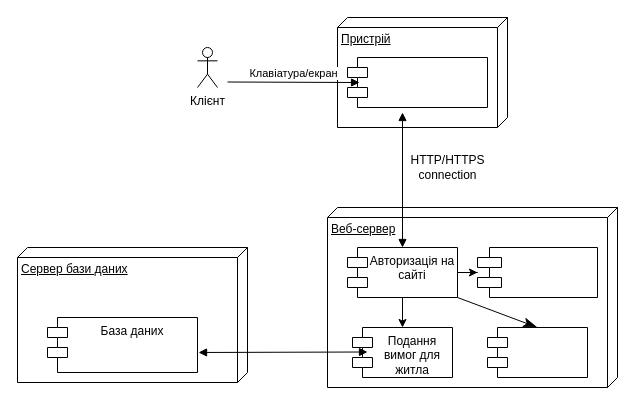
The diagram is 635 pixels wide and 405 high, and some of its shapes have lost their labels. The centre of each missing label's shape, as x and y in pixels:
"Браузер" belongs at point 417,82.
"Оплата за оренду житла" belongs at point 537,352.
"Подивитись перелік вільного житла" belongs at point 537,272.
